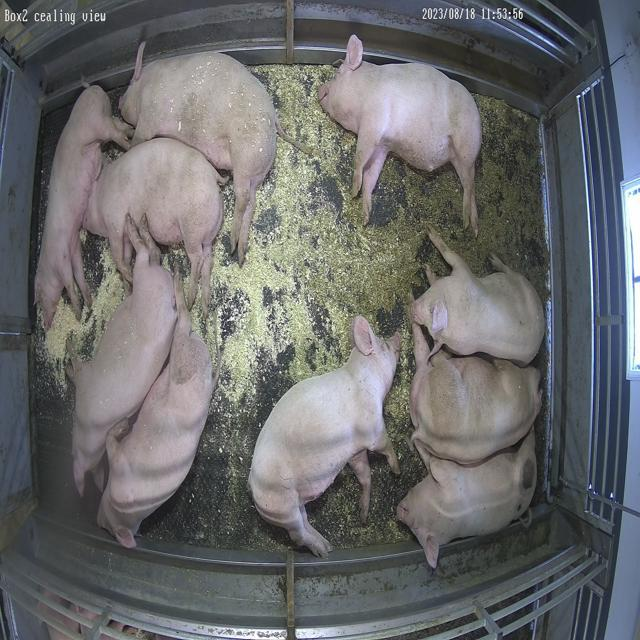Dirt: (366, 96, 549, 390)
Pig: (249, 316, 400, 558), (120, 52, 277, 264), (97, 280, 213, 548), (319, 49, 483, 234), (70, 225, 176, 496), (84, 138, 223, 314), (34, 85, 130, 330), (397, 431, 538, 570), (411, 324, 543, 465), (412, 229, 546, 366)
